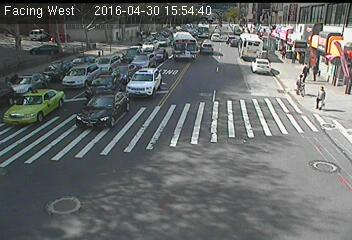neg: (62, 122, 100, 172), (215, 42, 240, 76), (231, 100, 254, 131), (159, 118, 181, 147), (129, 50, 151, 78), (176, 48, 195, 73), (89, 48, 107, 73)
pos: (313, 82, 333, 110), (291, 72, 309, 96), (309, 61, 326, 83), (278, 45, 290, 61)
